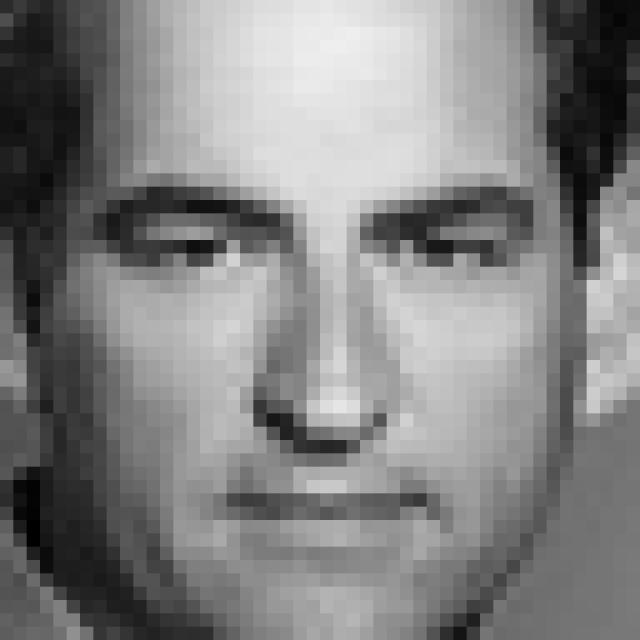neutral: (97, 165, 546, 570)
